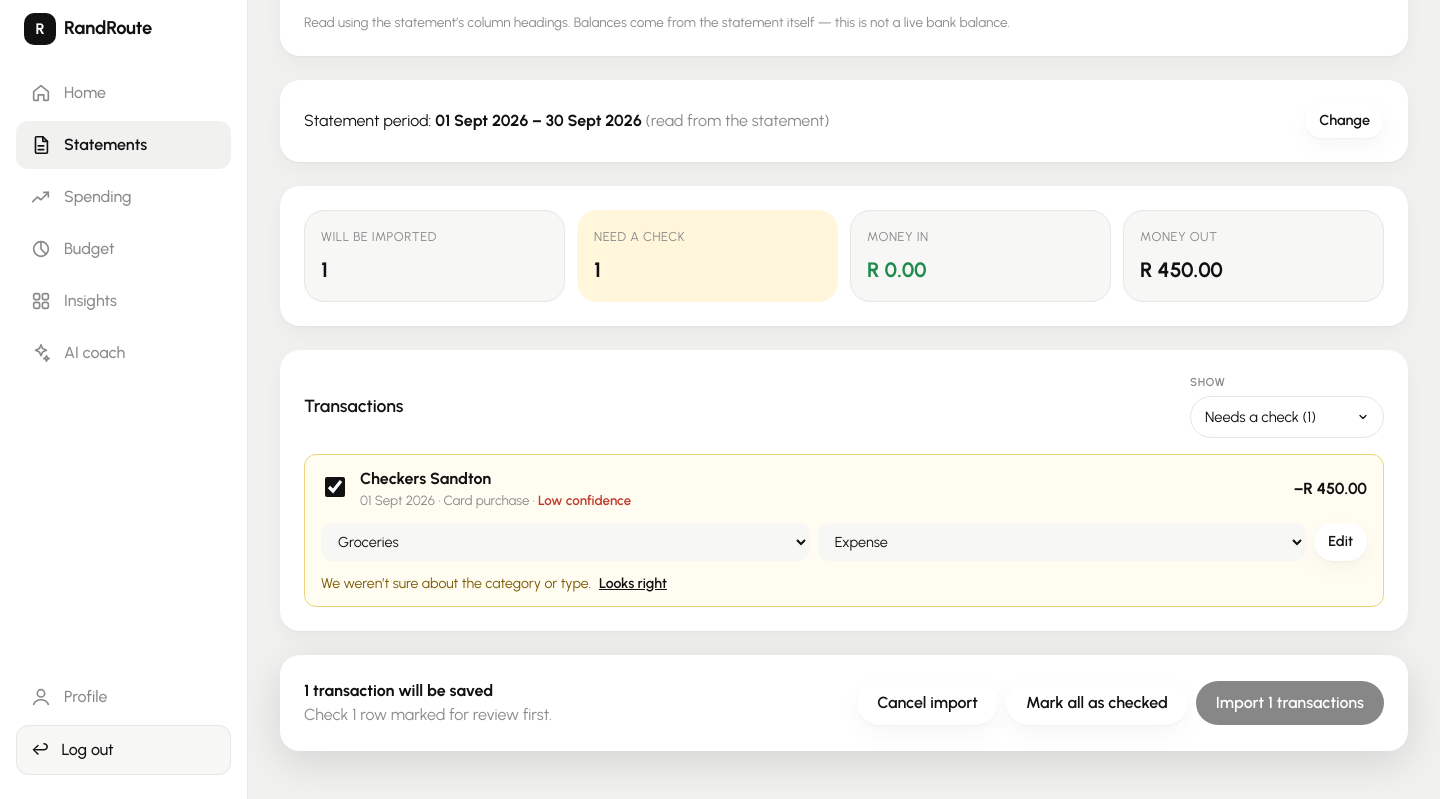
Test: Review and import › edits a category, then imports and shows the saved result
(page scrolled)
Select "Shopping & clothing" in the dropdown named "Category for Checkers Sandton" at (565, 542), box [321,523,810,561]
(page scrolled)
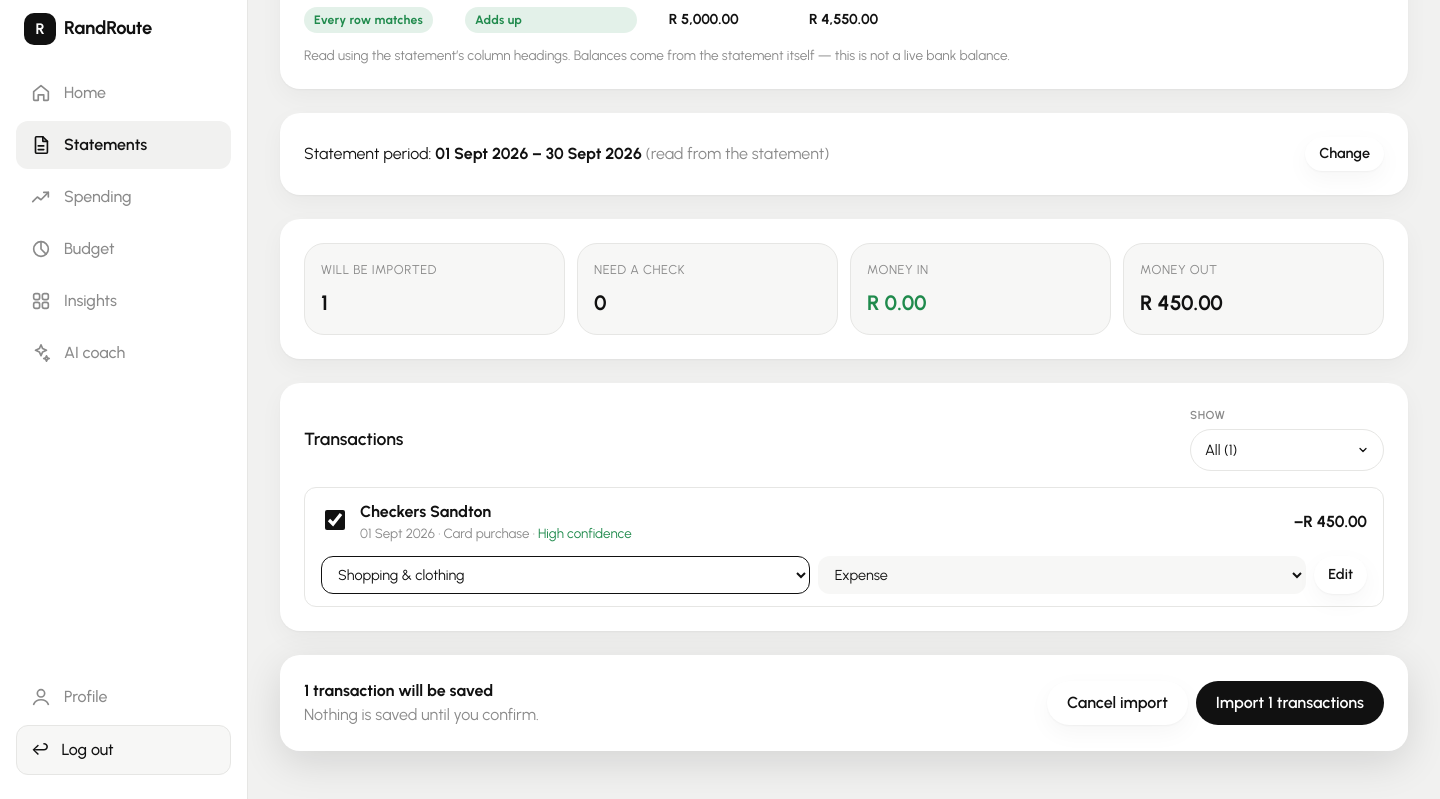
Click the button "Import 1 transactions".
click(1290, 703)  # box [1196,681,1384,725]
(page scrolled)
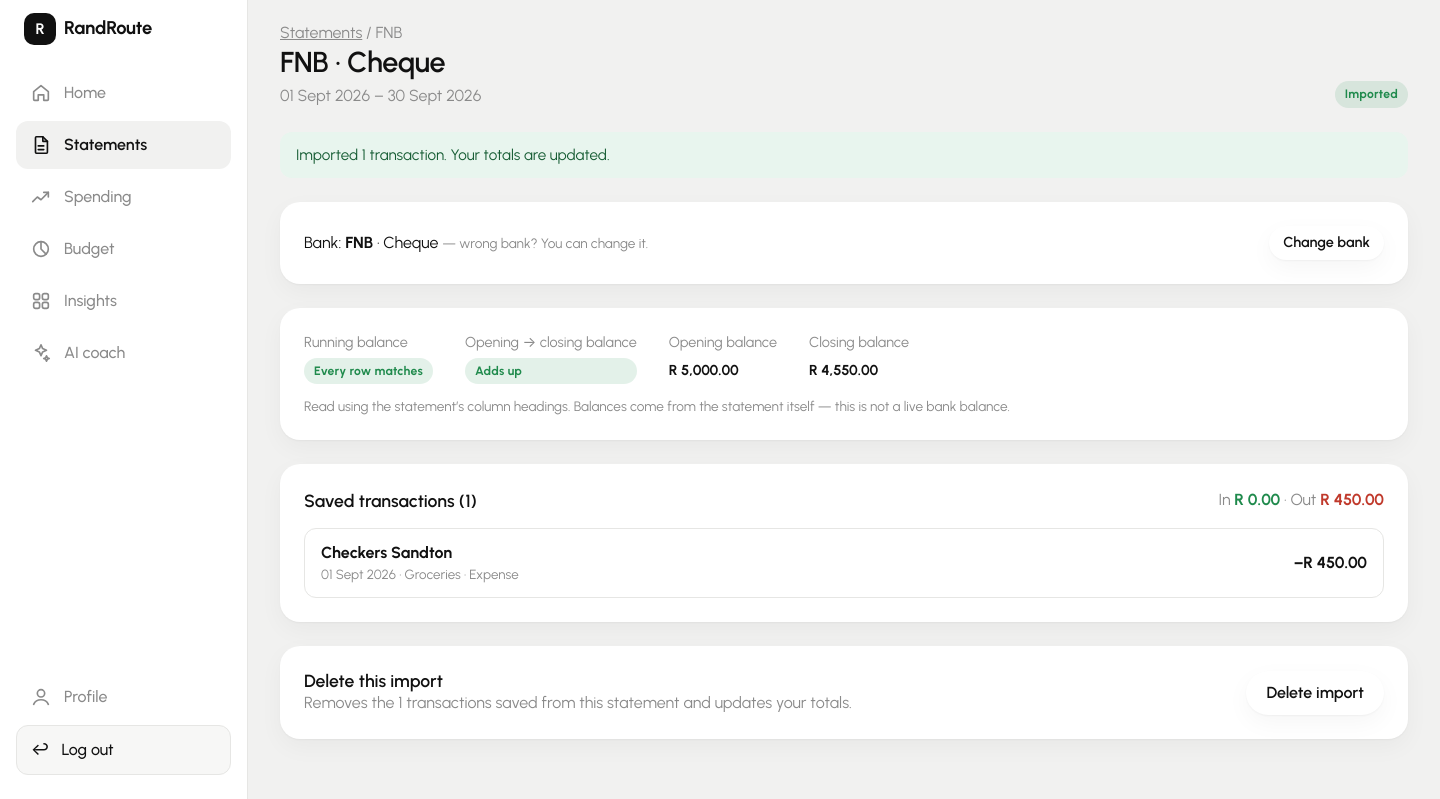
Now the text "Imported 1 transaction. Your totals are updated." is shown, box [280,132,1408,178]
Now the heading "Saved transactions (1)" is shown, box [304,490,477,511]
